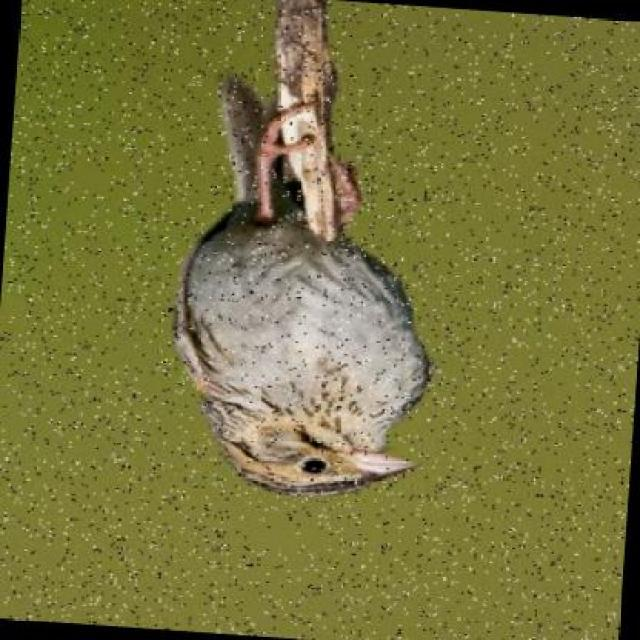Bird: (154, 51, 459, 507)
